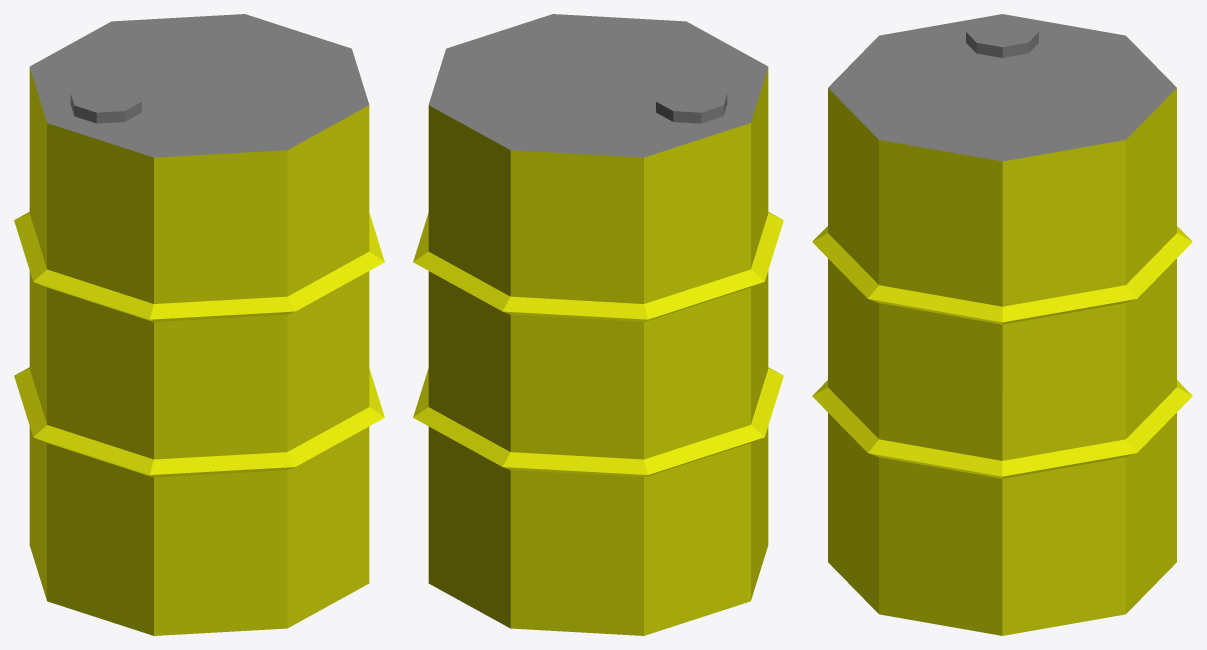
File: Barrel.fbx
3 views of the same model, side by side, from view 1: azimuth 30°, elevation 25°; view 2: azimuth 150°, elevation 25°; view 3: azimuth 270°, elevation 25° (orthographic).
Visible parts, largest first — view 1: Cylinder; view 2: Cylinder; view 3: Cylinder.
Boxes of the visible parts, x1=… form: Cylinder: x1=14, y1=14, x2=384, y2=635; Cylinder: x1=413, y1=14, x2=783, y2=635; Cylinder: x1=812, y1=14, x2=1192, y2=635.
Size of the model in its own units: 124 by 175 by 124.
